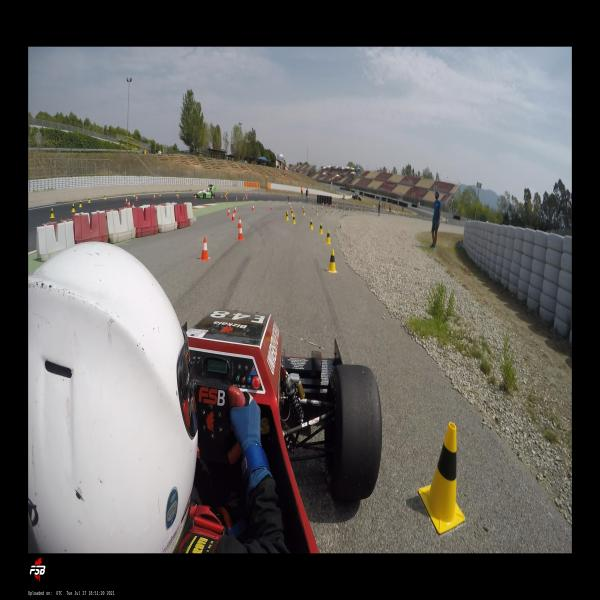orange_cone: (199, 237, 211, 261), (237, 224, 244, 241), (237, 216, 243, 228), (231, 211, 236, 222), (127, 200, 131, 208), (233, 206, 237, 214), (227, 208, 230, 216), (194, 193, 197, 200), (135, 195, 138, 202), (125, 197, 128, 204), (153, 193, 156, 200), (252, 204, 255, 211), (302, 205, 305, 210), (290, 205, 292, 211), (311, 206, 314, 210), (270, 204, 272, 210), (177, 193, 179, 199), (212, 195, 214, 200), (242, 196, 244, 201), (236, 197, 238, 201), (246, 197, 248, 200), (226, 197, 227, 200)
yellow_cone: (418, 422, 466, 532), (326, 249, 338, 273), (324, 229, 331, 244), (49, 207, 56, 219), (318, 222, 323, 235), (71, 203, 76, 213), (286, 210, 290, 221), (309, 219, 313, 230), (292, 214, 296, 224), (290, 208, 294, 217), (78, 200, 82, 208), (88, 196, 92, 203), (132, 192, 136, 198), (303, 208, 306, 216), (158, 191, 162, 197), (104, 194, 107, 200), (176, 192, 178, 199), (285, 210, 287, 217), (316, 210, 318, 216), (221, 192, 223, 198), (343, 209, 345, 214), (325, 210, 327, 215), (332, 210, 334, 214), (338, 210, 340, 214)
